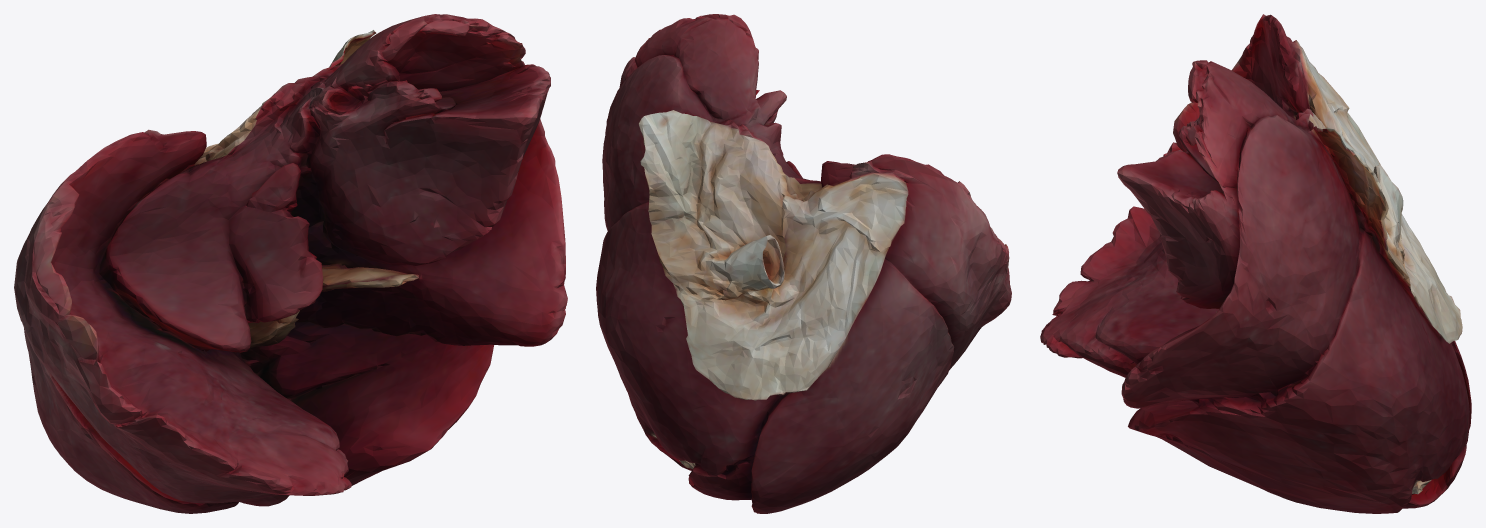
Rendered from liver.glb.
The picture shows the model from 3 angles, left to right: view 1: azimuth 30°, elevation 25°; view 2: azimuth 150°, elevation 25°; view 3: azimuth 270°, elevation 25°; orthographic projection. The views are drawn at different scales.
Parts seen in each view (by area): view 1: liver; view 2: liver; view 3: liver.
Part boxes in pixels (x1,y1,x2,y2): liver: [14, 14, 567, 513]; liver: [596, 14, 1011, 513]; liver: [1040, 14, 1471, 513].
Bounding box in the file's own units: 0.00426 × 0.00405 × 0.00325.
Materials: 1 (1 with a texture image).
